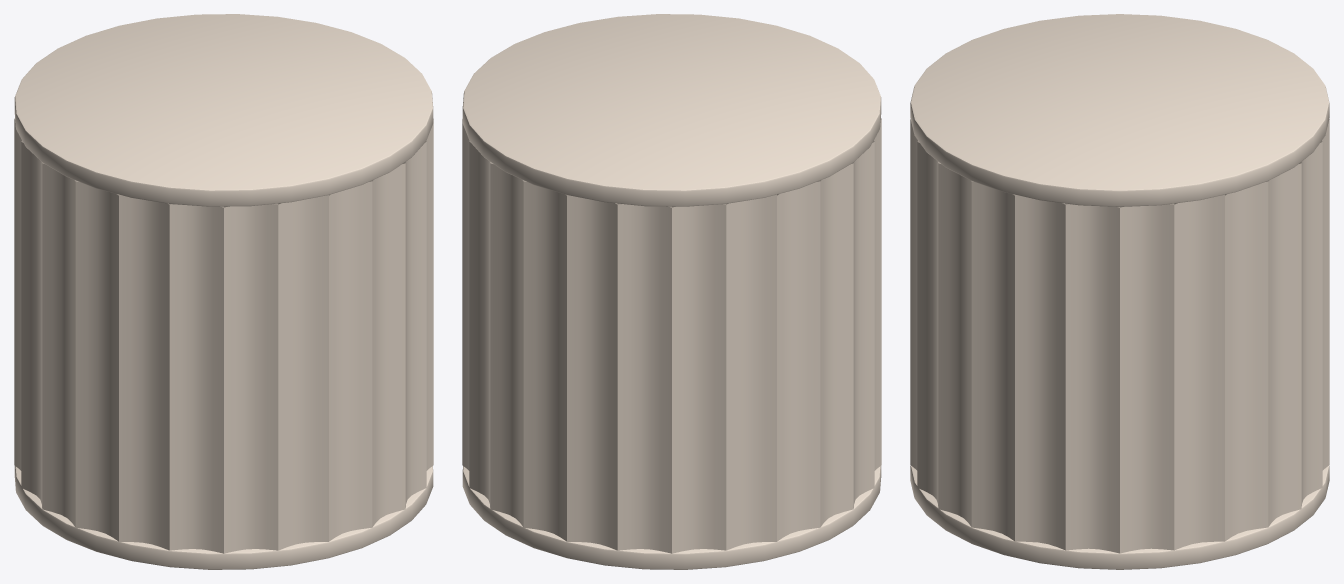
File: plinth_fluted.glb
3 renders of one model, left to right at view 1: azimuth 30°, elevation 25°; view 2: azimuth 150°, elevation 25°; view 3: azimuth 270°, elevation 25°, orthographic.
Visible parts, largest first — view 1: plinth_fluted; view 2: plinth_fluted; view 3: plinth_fluted.
Part boxes in pixels (x1,y1,x2,y2): plinth_fluted: (14,14,433,569); plinth_fluted: (462,14,881,569); plinth_fluted: (910,14,1329,569).
Bounding box in the file's own units: 1 × 1 × 1.
